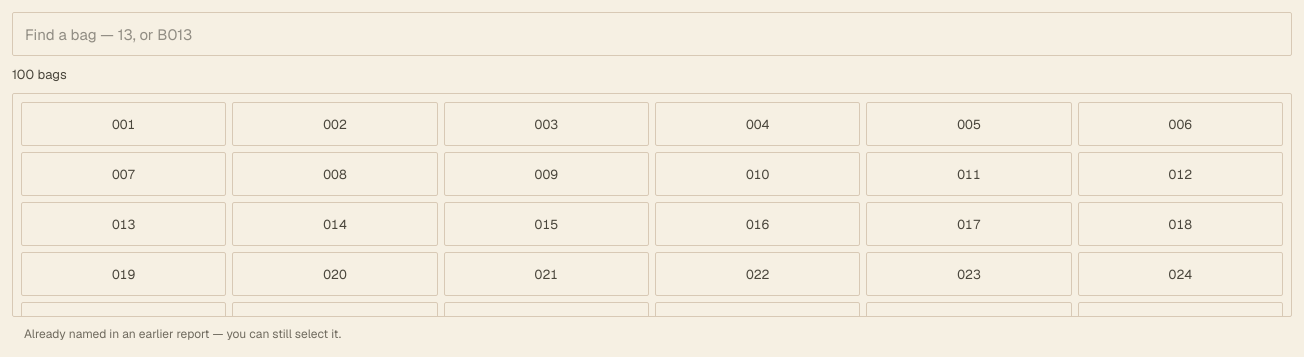
bag picker › finds a bag by the number printed on it
The image size is (1304, 357).
Expected: the button named "BAT-202610-001-B001" is shown, [21,102,226,146]
Note: "13" is what the admin reads off the bag — not the full id.
In the search field labelled "Find a bag — 13, or B013": (652, 34) [12,12,1292,56], type "13"
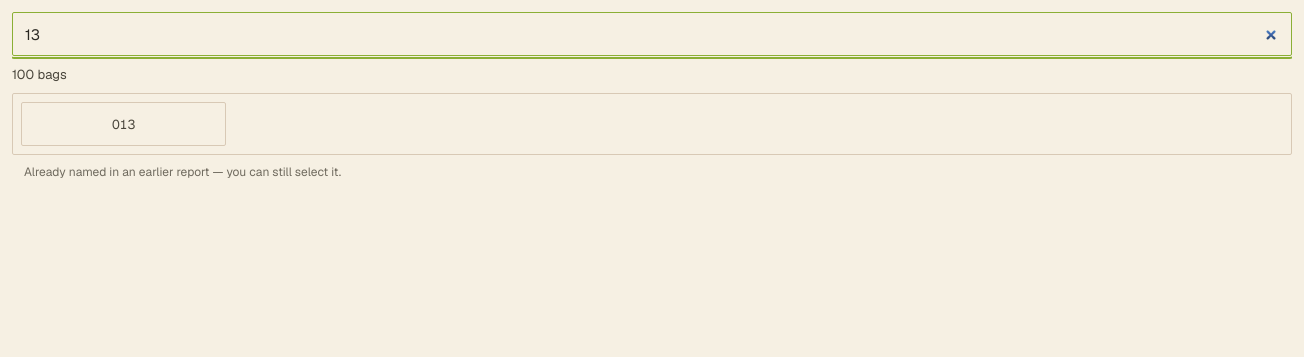
Expected: the button named "B013" is shown, [21,102,226,146]
Expected: the button "BAT-202610-001-B001" is gone
